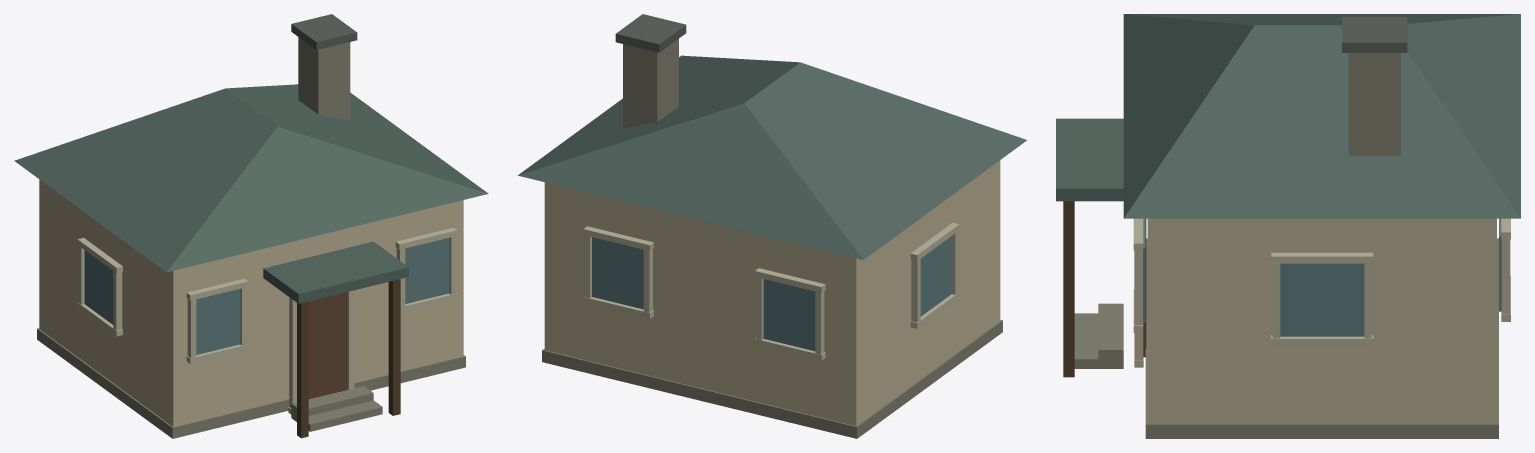
File: Building_Settlement_HippedCottage_001_LOD1.glb
The picture shows the model from 3 angles, left to right: view 1: azimuth 30°, elevation 25°; view 2: azimuth 150°, elevation 25°; view 3: azimuth 270°, elevation 25°; orthographic projection. The views are drawn at different scales.
Visible parts, largest first — view 1: Building_Settlement_HippedCottage_001_LOD1; view 2: Building_Settlement_HippedCottage_001_LOD1; view 3: Building_Settlement_HippedCottage_001_LOD1.
Boxes of the visible parts, bbox=[...] form: Building_Settlement_HippedCottage_001_LOD1: bbox=[14, 14, 488, 438]; Building_Settlement_HippedCottage_001_LOD1: bbox=[518, 14, 1026, 438]; Building_Settlement_HippedCottage_001_LOD1: bbox=[1056, 14, 1520, 438].
Size of the model in its own units: 5.55 by 4.76 by 5.33.
